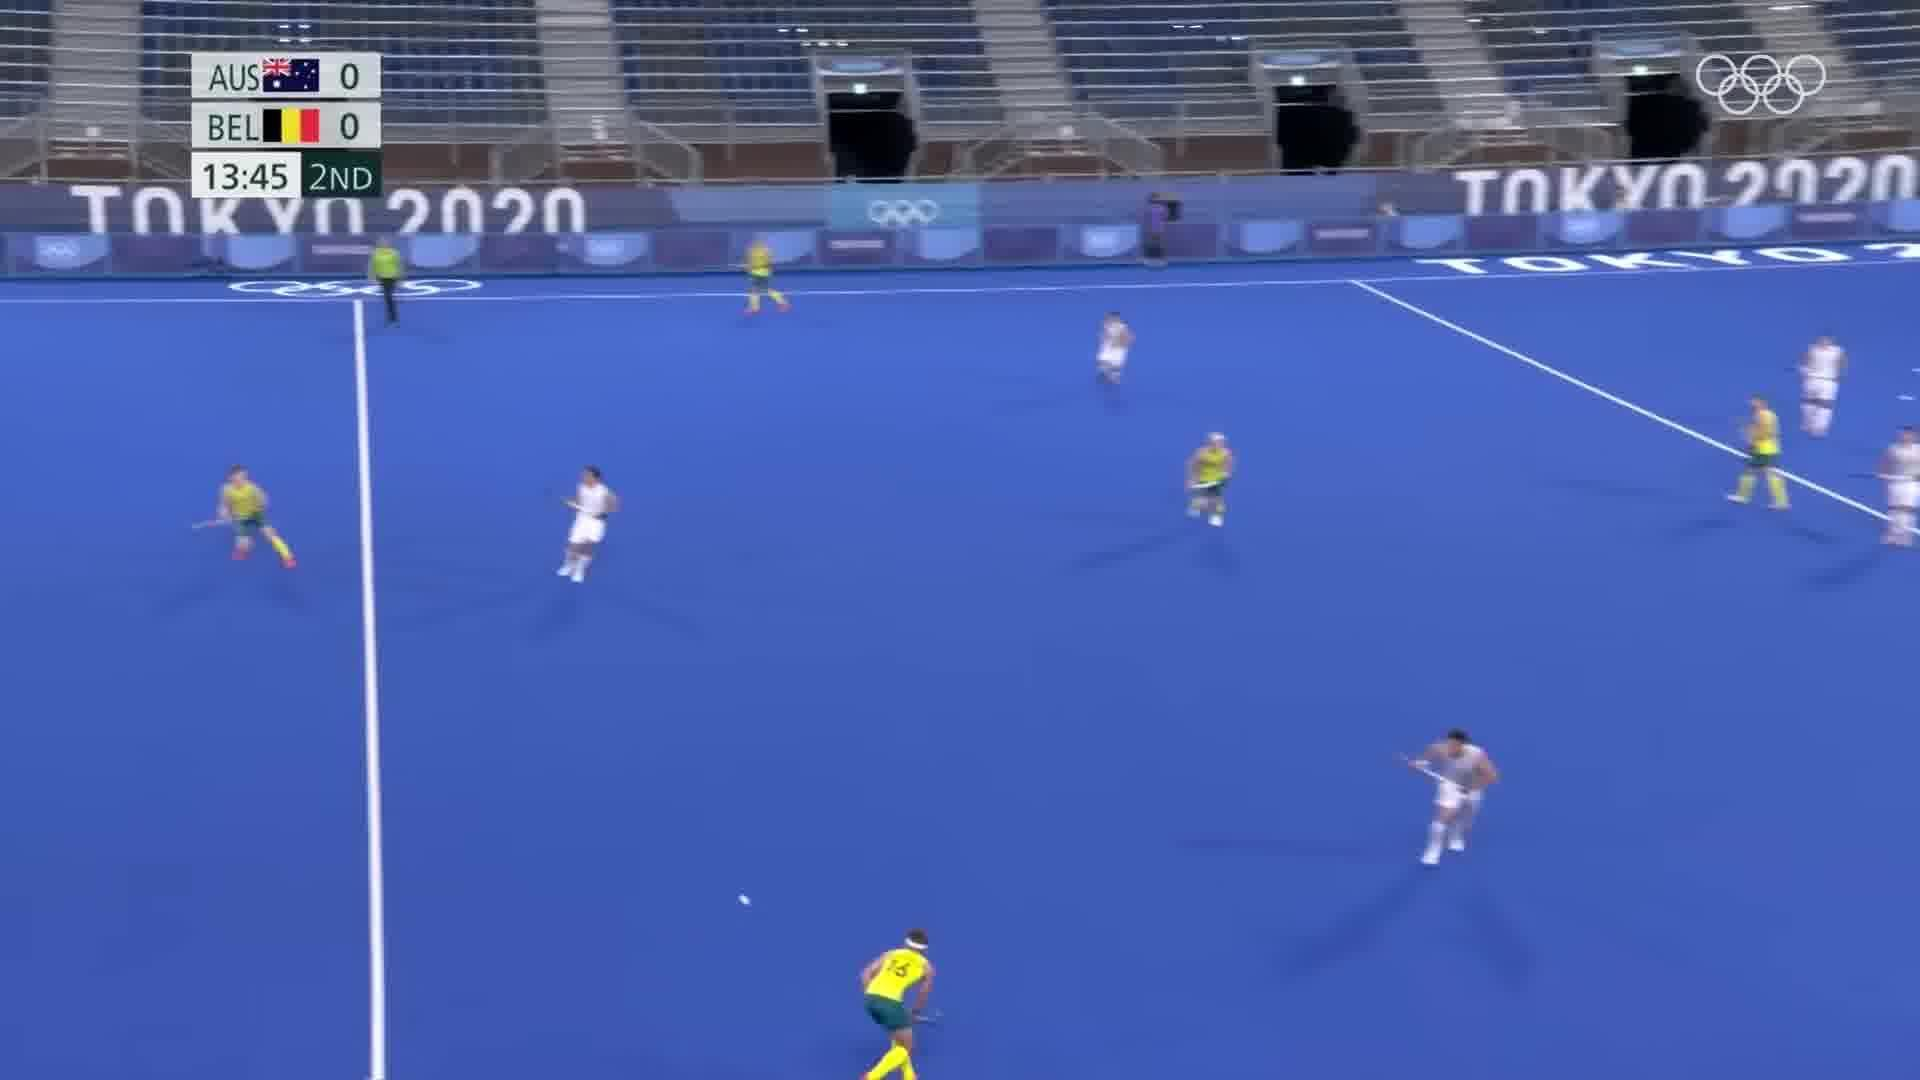ball: (729, 884, 760, 913)
